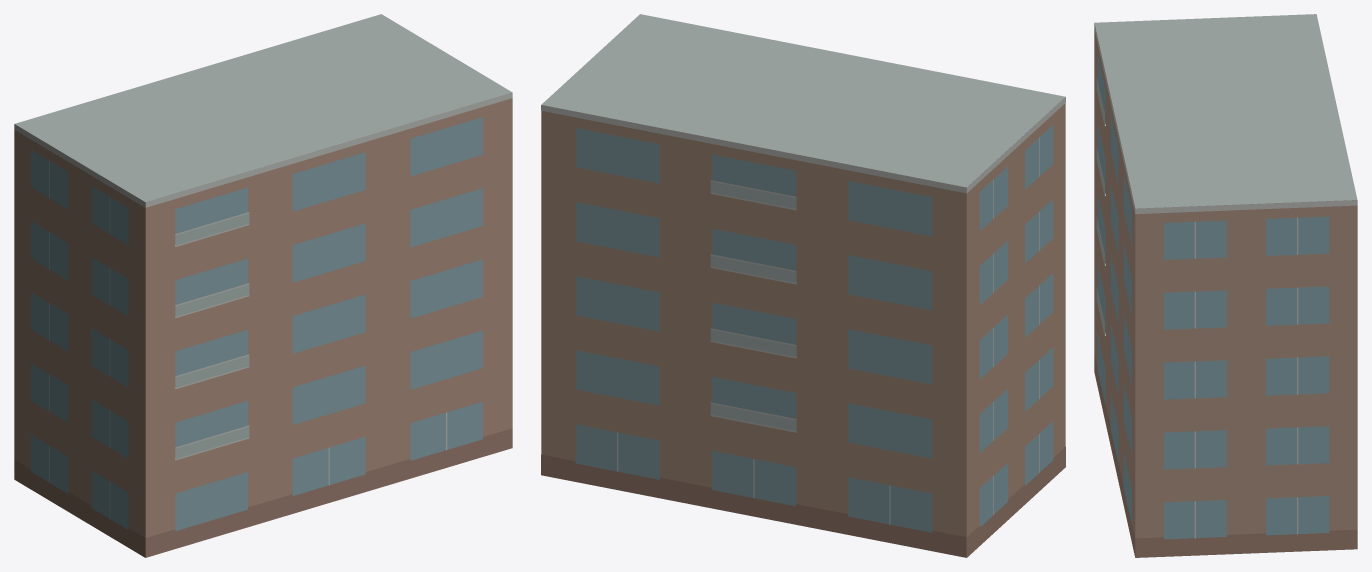
The model's file is survey-upis-32757095.glb.
The picture shows the model from 3 angles, left to right: view 1: azimuth 30°, elevation 25°; view 2: azimuth 150°, elevation 25°; view 3: azimuth 270°, elevation 25°; orthographic projection. The views are drawn at different scales.
Visible parts, largest first — view 1: survey-upis-32757095.tmp; view 2: survey-upis-32757095.tmp; view 3: survey-upis-32757095.tmp.
Part boxes in pixels (<box>): survey-upis-32757095.tmp: <box>14,14,512,557</box>; survey-upis-32757095.tmp: <box>541,14,1065,557</box>; survey-upis-32757095.tmp: <box>1094,14,1357,557</box>.
Bounding box in the file's own units: 18.23 × 15.25 × 10.42.
